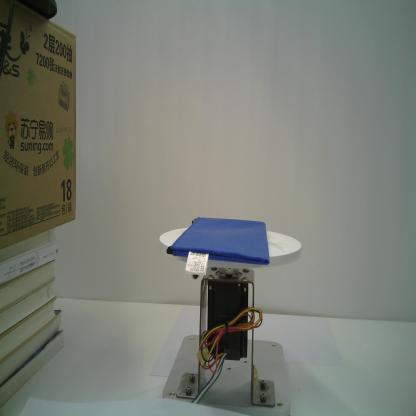Stationery: (166, 216, 272, 281)
